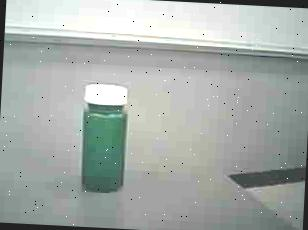Bottle C: (68, 78, 148, 202)
